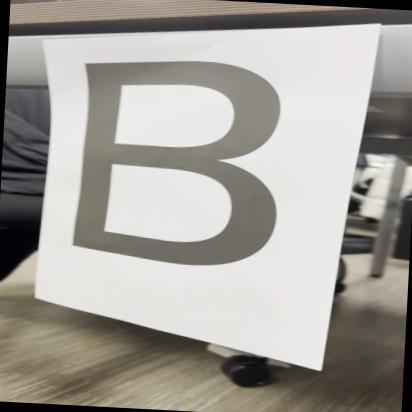seat: (53, 50, 303, 281)
